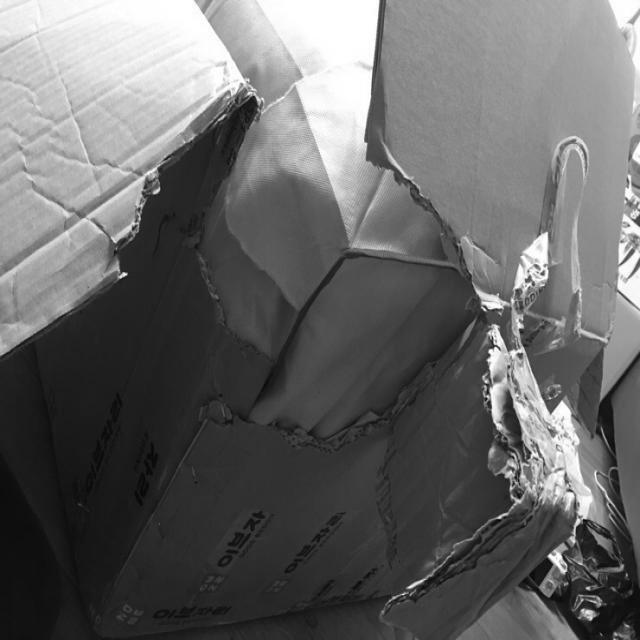hole: (188, 92, 491, 508)
